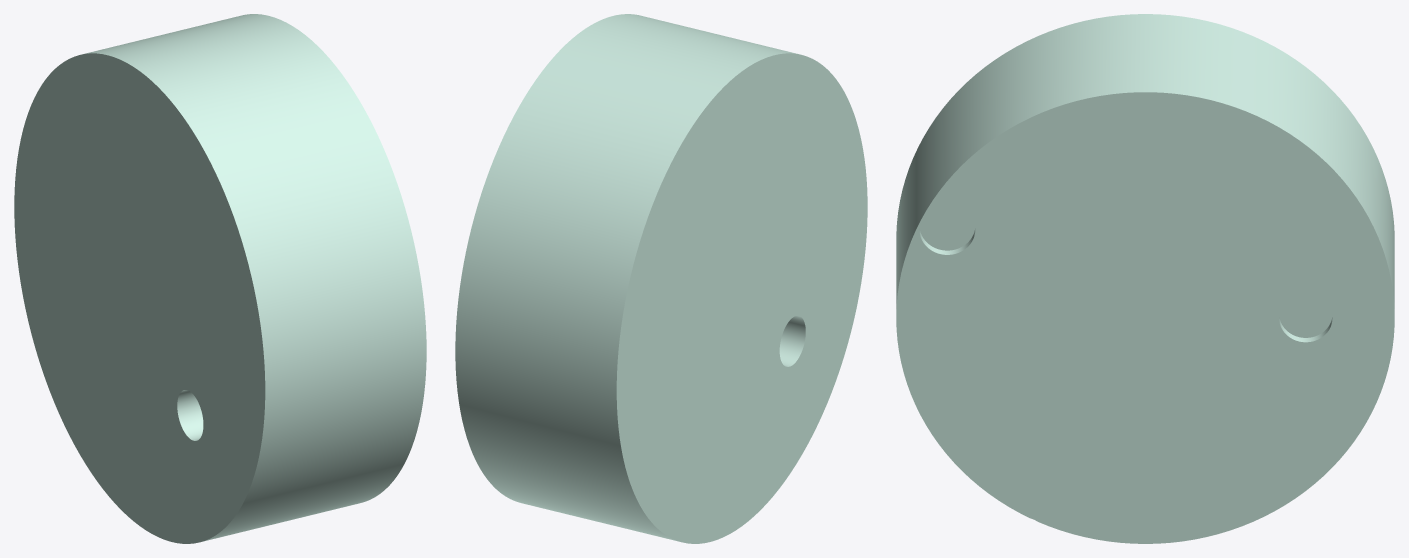
3 renders of one model, left to right at view 1: azimuth 30°, elevation 25°; view 2: azimuth 150°, elevation 25°; view 3: azimuth 270°, elevation 25°, orthographic.
Visible parts, largest first — view 1: Renderer Node; view 2: Renderer Node; view 3: Renderer Node.
Part boxes in pixels (x1=…): Renderer Node: x1=14, y1=14, x2=426, y2=543; Renderer Node: x1=455, y1=14, x2=867, y2=543; Renderer Node: x1=896, y1=14, x2=1394, y2=543.
Size of the model in its own units: 0.5625 by 1.52 by 1.52.
